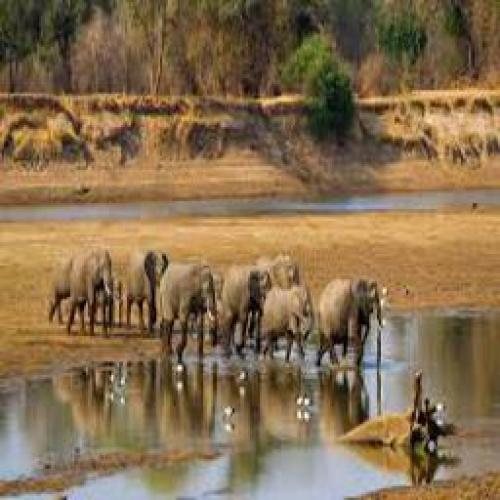african_elephant-endangered: (152, 257, 220, 368), (313, 276, 386, 367), (46, 246, 112, 346), (218, 262, 274, 358), (116, 247, 170, 332), (261, 290, 313, 354), (255, 249, 305, 292)
